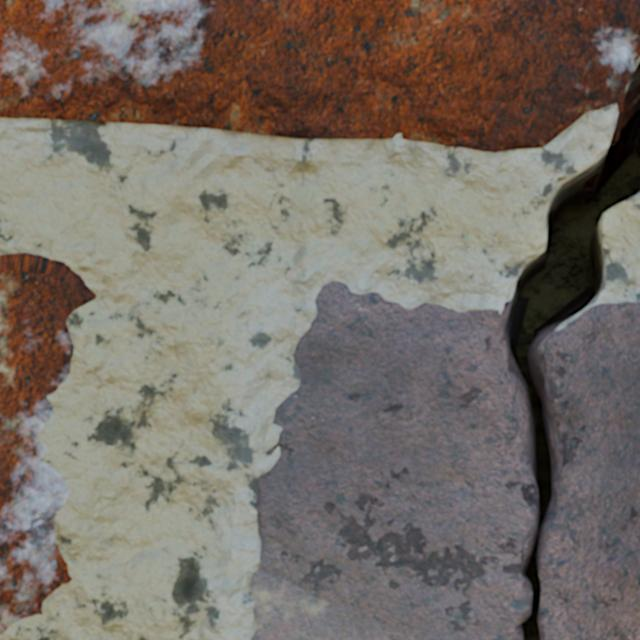broken_brick: (251, 281, 535, 639), (0, 0, 639, 152), (538, 302, 639, 639)
crack: (497, 55, 639, 639), (0, 253, 95, 635)
